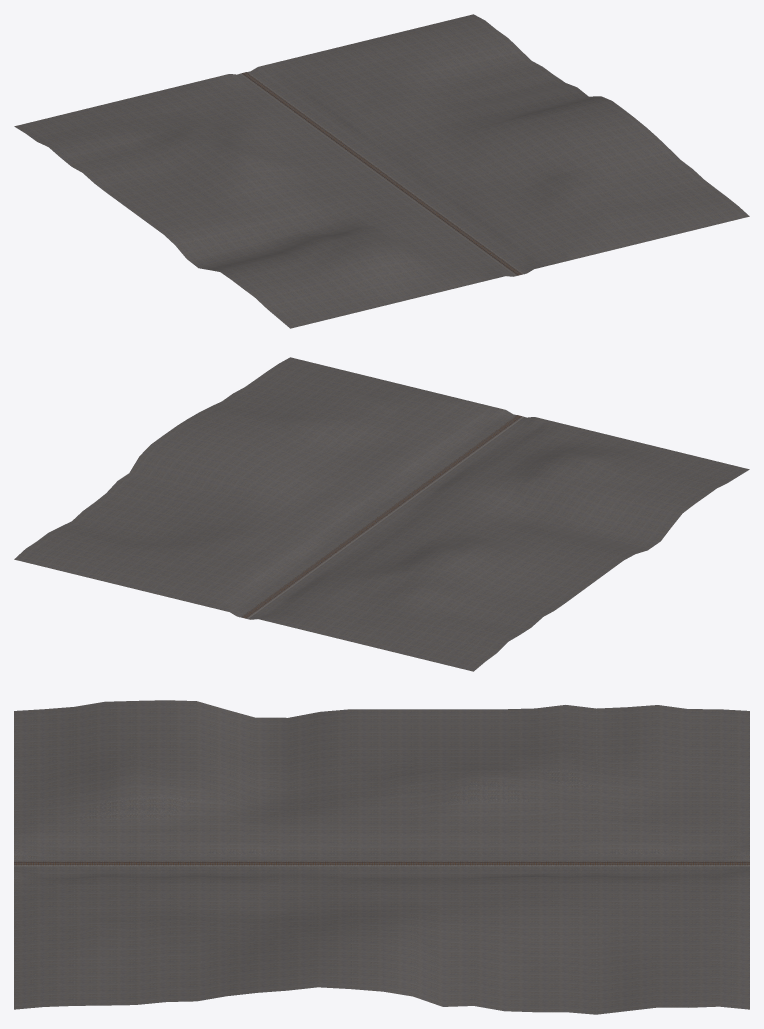
The model's file is TrainMap.fbx.
The picture shows the model from 3 angles, top to bottom: view 1: azimuth 30°, elevation 25°; view 2: azimuth 150°, elevation 25°; view 3: azimuth 270°, elevation 25°; orthographic projection. The views are drawn at different scales.
Parts seen in each view (by area): view 1: SM_a_006_Scrollground_01a; view 2: SM_a_006_Scrollground_01a; view 3: SM_a_006_Scrollground_01a.
Boxes of the visible parts, <box> form: SM_a_006_Scrollground_01a: <box>14,14,749,328</box>; SM_a_006_Scrollground_01a: <box>14,357,749,671</box>; SM_a_006_Scrollground_01a: <box>14,700,749,1014</box>.
Bounding box in the file's own units: 28979 × 1288 × 30001.
2 materials, 2 textured.
